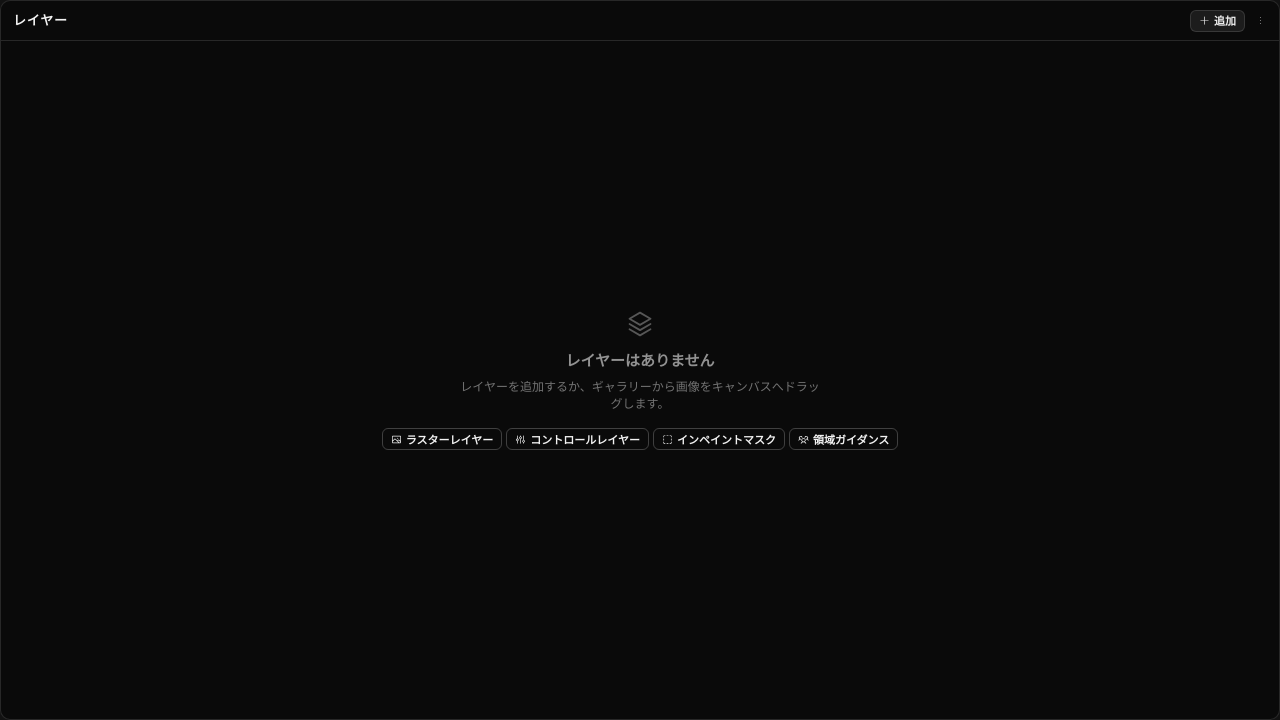
Scenario: layers panel › starts empty with quick buttons that add a layer of each type
Expected: the text "レイヤーはありません" is shown, 565,350 -> 714,371
Click the button "インペイントマスク": [719, 439] box 653,428 -> 785,450
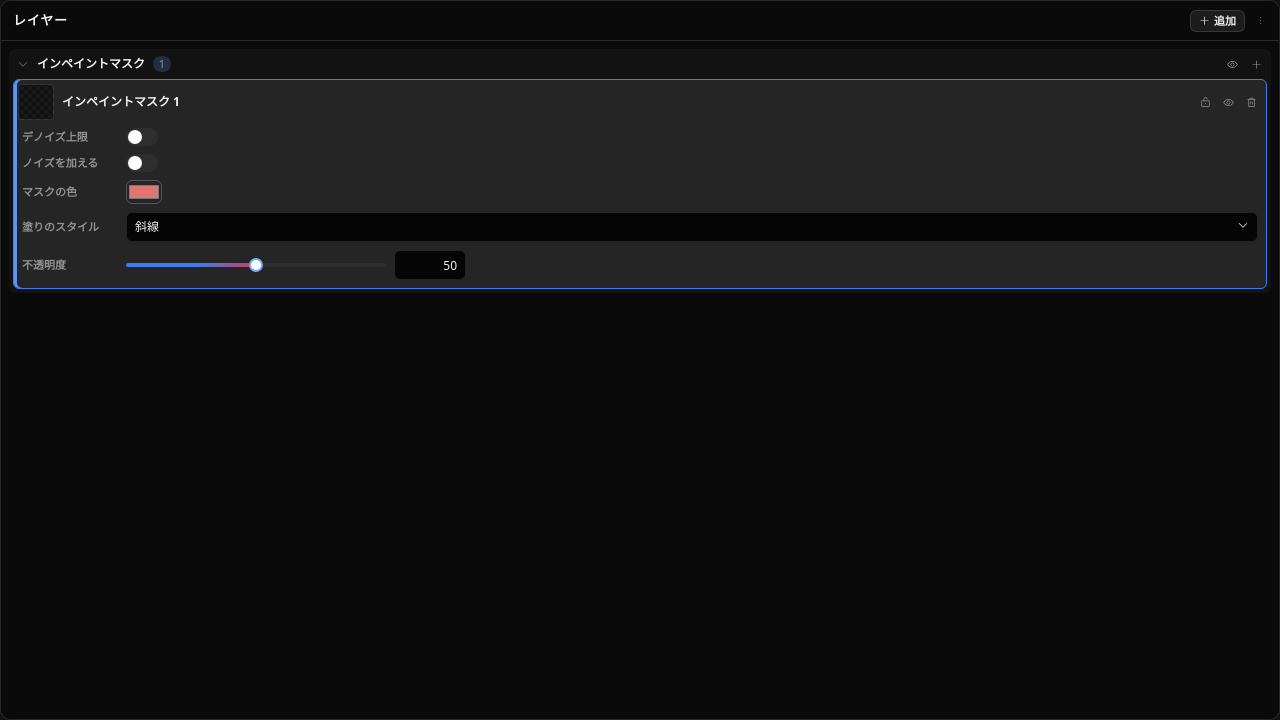
Expected: the text "レイヤーはありません" is gone
